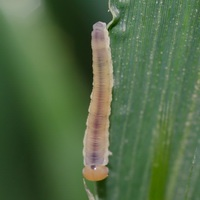insect: (83, 22, 112, 180)
